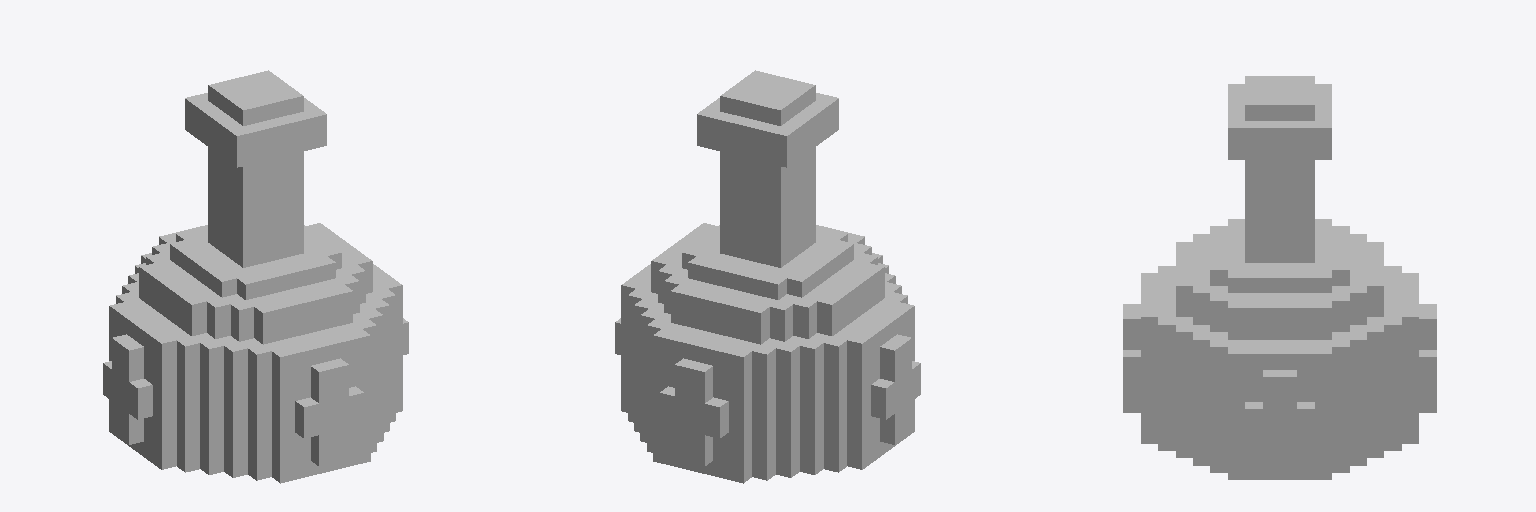
Rendered from ManaPotion.obj.
3 renders of one model, left to right at view 1: azimuth 30°, elevation 25°; view 2: azimuth 150°, elevation 25°; view 3: azimuth 270°, elevation 25°, orthographic.
Visible parts, largest first — view 1: ManaPotion; view 2: ManaPotion; view 3: ManaPotion.
Part boxes in pixels (bbox=[...]): ManaPotion: bbox=[103, 70, 408, 483]; ManaPotion: bbox=[615, 70, 920, 483]; ManaPotion: bbox=[1123, 76, 1436, 479].
Size of the model in its own units: 18 by 21 by 18.